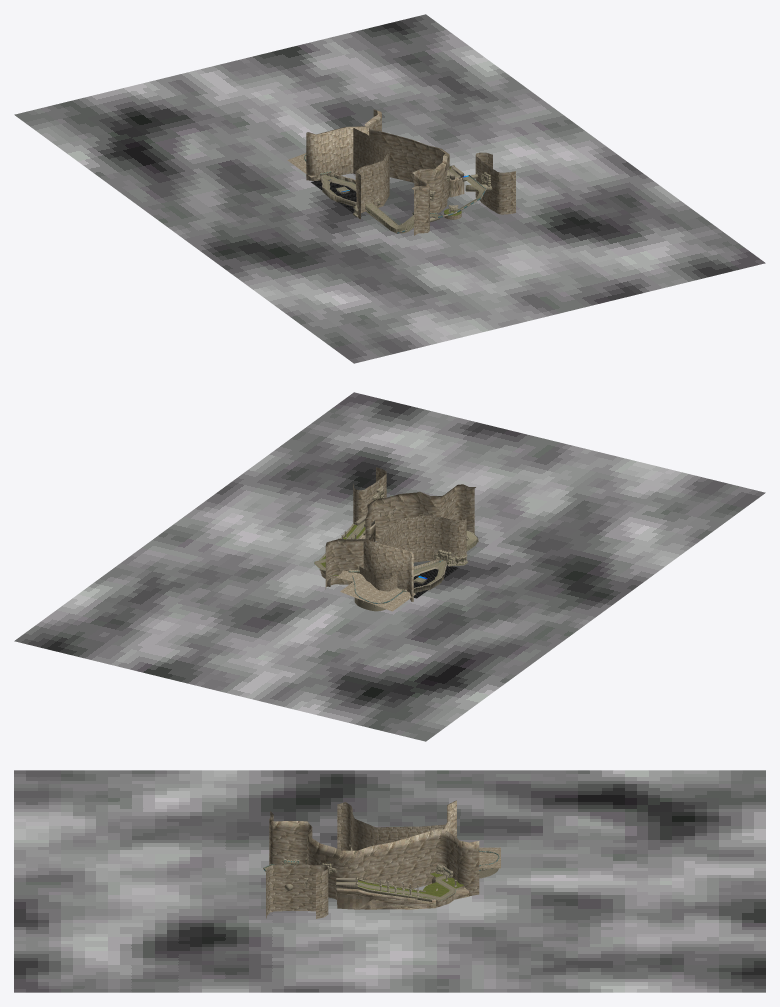
The picture shows the model from 3 angles, top to bottom: view 1: azimuth 30°, elevation 25°; view 2: azimuth 150°, elevation 25°; view 3: azimuth 270°, elevation 25°; orthographic projection. The views are drawn at different scales.
Parts seen in each view (by area): view 1: Death_F0010, Plane001, Plane005, Box001, Plane002.001; view 2: Death_F0010, Plane001, Plane005, Box001, Plane004, Plane002.001; view 3: Death_F0010, Plane001, Plane002.001, Plane005, Box001_F000F, Track_F2000_F0000, Plane004.
Part boxes in pixels (x1,y1,x2,y2): Death_F0010: [14, 14, 765, 363]; Plane001: [364, 109, 449, 235]; Plane005: [353, 128, 389, 219]; Box001: [306, 126, 368, 181]; Plane002.001: [475, 152, 515, 214]; Death_F0010: [14, 392, 765, 741]; Plane001: [325, 484, 475, 589]; Plane005: [376, 515, 466, 562]; Box001: [363, 539, 413, 601]; Plane004: [336, 570, 415, 611]; Plane002.001: [353, 467, 386, 523]; Death_F0010: [14, 770, 765, 992]; Plane001: [269, 811, 479, 899]; Plane002.001: [266, 864, 328, 918]; Plane005: [337, 802, 444, 850]; Box001_F000F: [335, 888, 435, 909]; Track_F2000_F0000: [264, 863, 455, 900]; Plane004: [479, 847, 500, 868].
Size of the model in its own units: 237669 by 41450 by 339864.
Materials: 72 (72 with a texture image).
